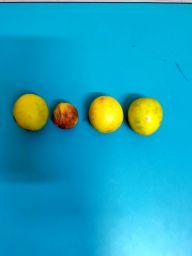lemon: (127, 98, 164, 137), (87, 96, 125, 133), (12, 93, 49, 131), (51, 103, 80, 129)
